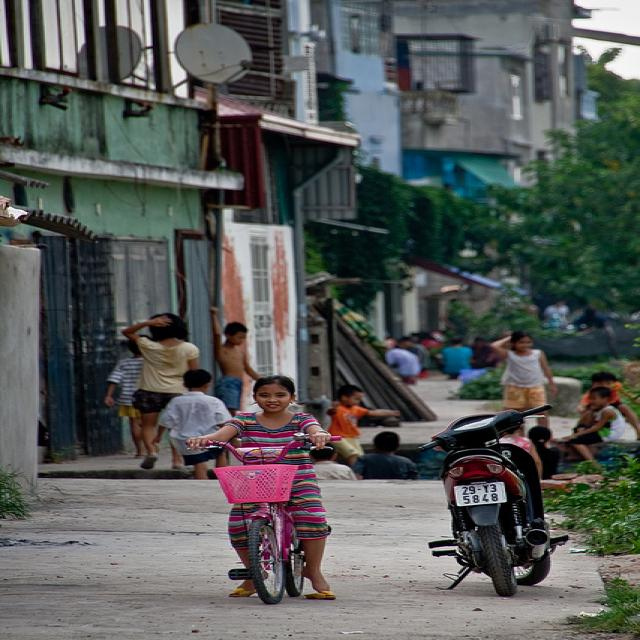motor: (408, 404, 572, 599)
